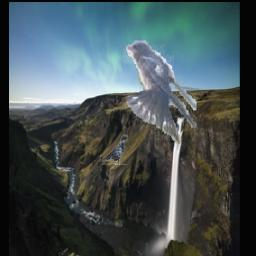Crow: (103, 135, 129, 165)
Swallow: (124, 40, 197, 146)
